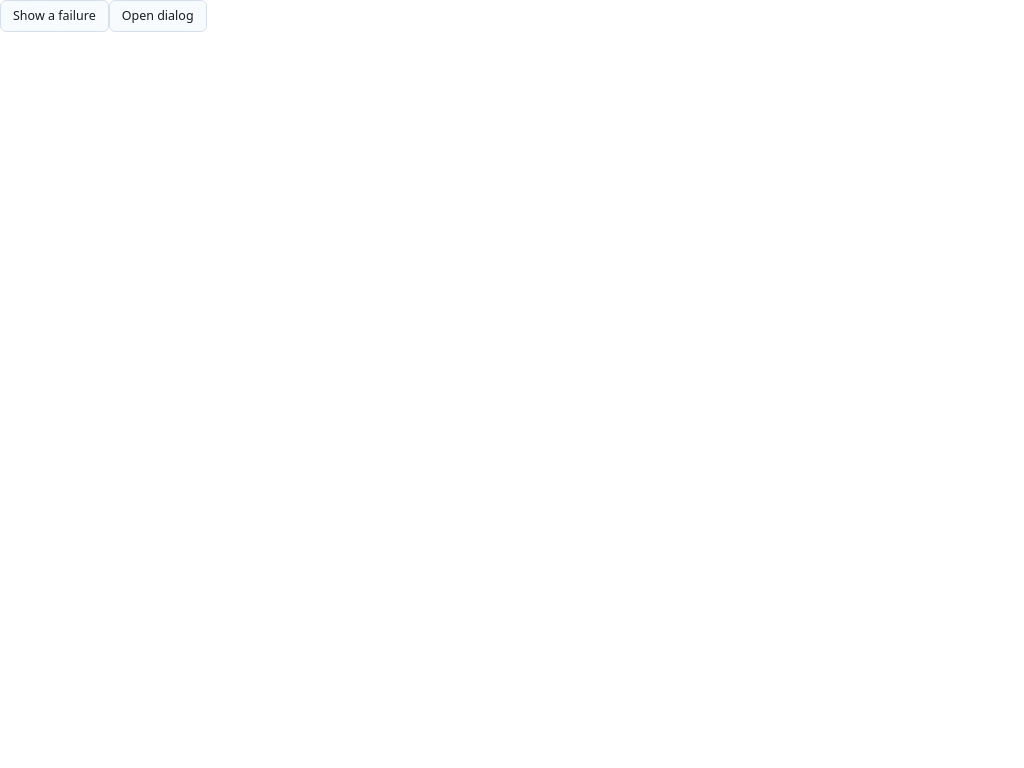
Test case: keeps the Tab key out of the page after a toast was dismissed beside it
The image size is (1024, 768).
Later steps or results of the test are not shown.
Click the button "Show a failure" at coordinates (54, 16), box [0, 0, 109, 32]
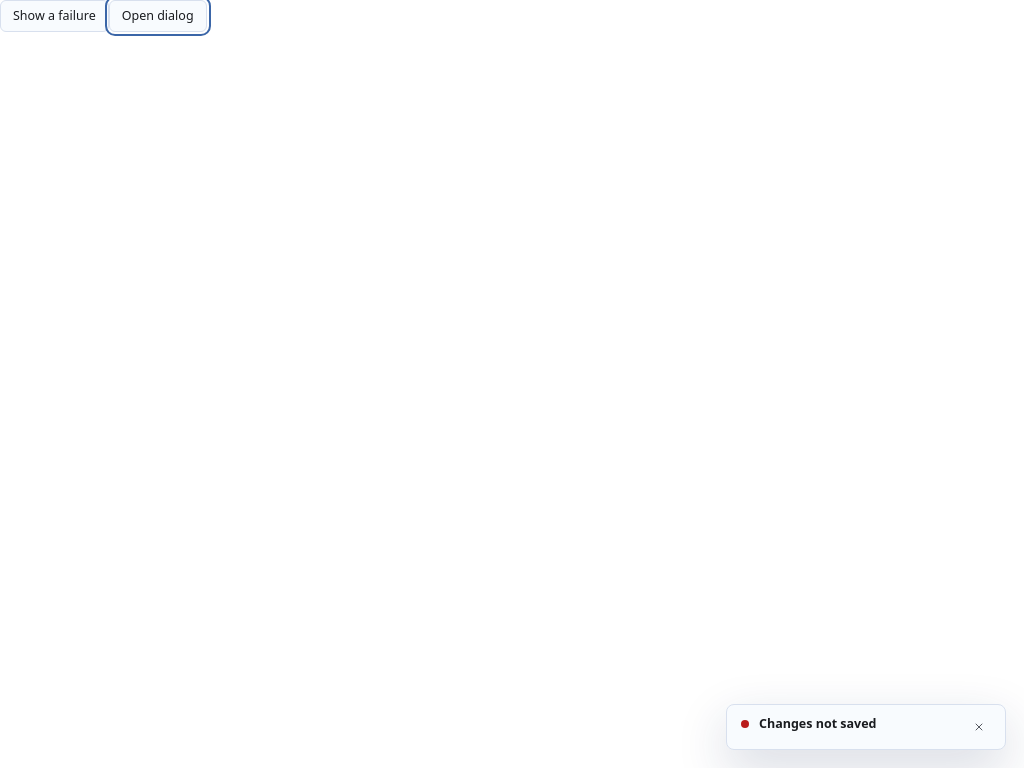
Result: the dialog "Changes not saved" is shown at [726, 704, 1006, 750]
Press Enter
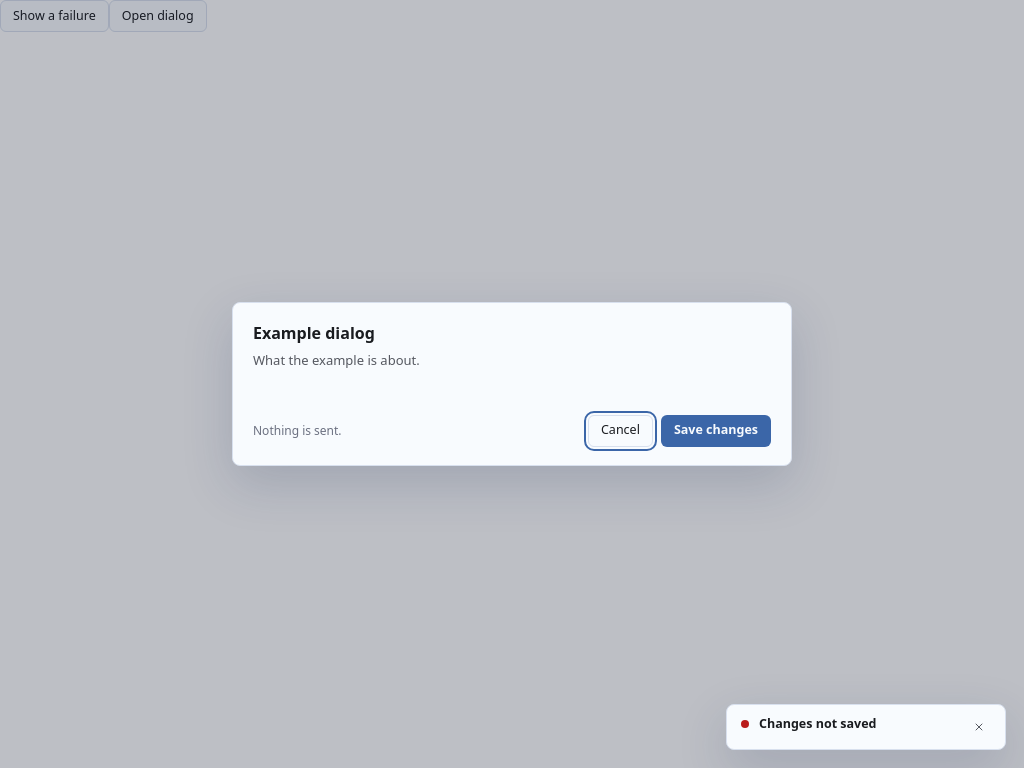
Expected: the element "Show a failure Open dialog" is shown, [0, 0, 207, 32]
Result: the dialog "Example dialog" is shown at [232, 302, 792, 466]
Click the button named "Dismiss" at coordinates (979, 727), box [967, 715, 991, 739]
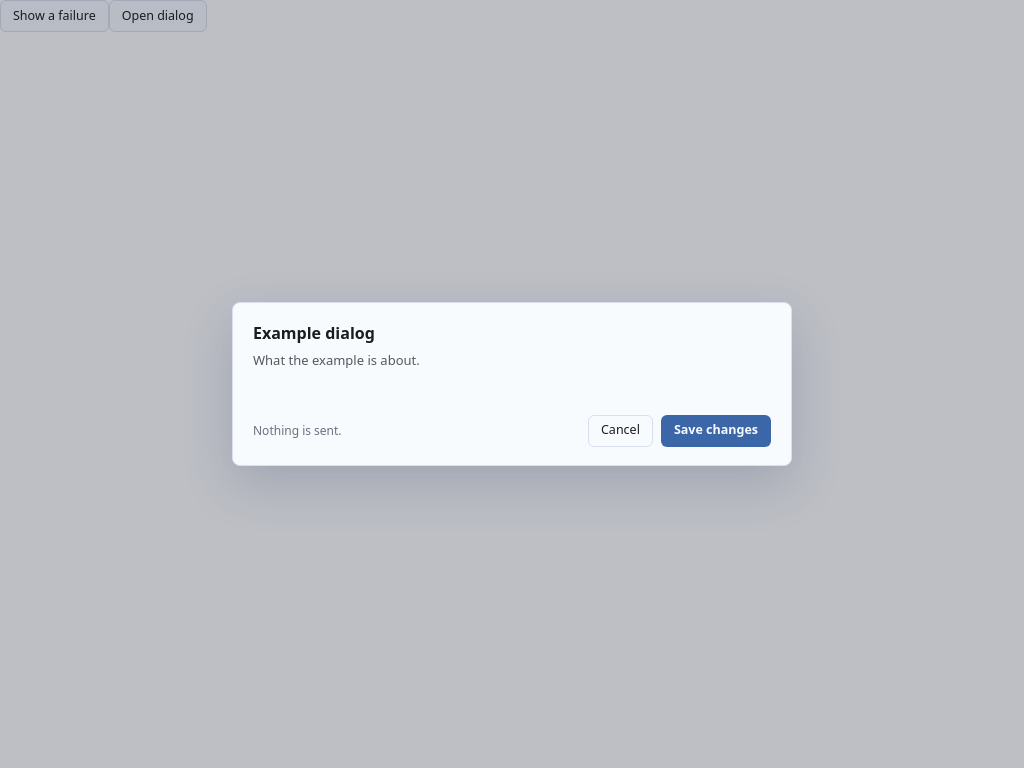
Result: the dialog "Example dialog" is shown at [232, 302, 792, 466]
